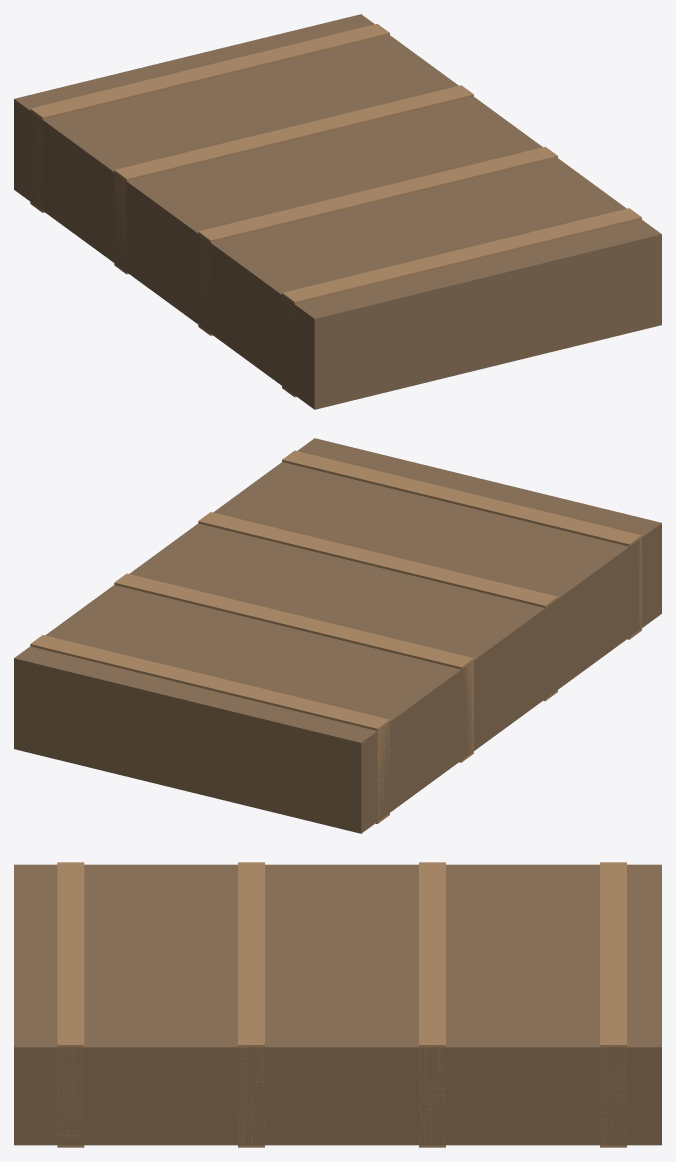
Rendered from shop_shelf_tall.glb.
3 renders of one model, top to bottom at view 1: azimuth 30°, elevation 25°; view 2: azimuth 150°, elevation 25°; view 3: azimuth 270°, elevation 25°, orthographic. The views are drawn at different scales.
Visible parts, largest first — view 1: back, shelf_2, shelf_1, shelf_3, shelf_4; view 2: back, shelf_1, shelf_2, shelf_4, shelf_3; view 3: back, shelf_4, shelf_1, shelf_3, shelf_2.
Part boxes in pixels (x1,y1,x2,y2): back: [14, 14, 661, 409]; shelf_2: [114, 85, 473, 274]; shelf_1: [30, 24, 389, 212]; shelf_3: [198, 146, 557, 335]; shelf_4: [282, 208, 641, 397]; back: [14, 438, 661, 833]; shelf_1: [30, 635, 389, 823]; shelf_2: [114, 573, 473, 762]; shelf_4: [282, 450, 641, 639]; shelf_3: [198, 512, 557, 701]; back: [14, 864, 661, 1145]; shelf_4: [57, 862, 84, 1147]; shelf_1: [600, 862, 626, 1147]; shelf_3: [238, 862, 264, 1147]; shelf_2: [419, 862, 445, 1147].
Bounding box in the file's own units: 1.6 × 0.42 × 2.4.
